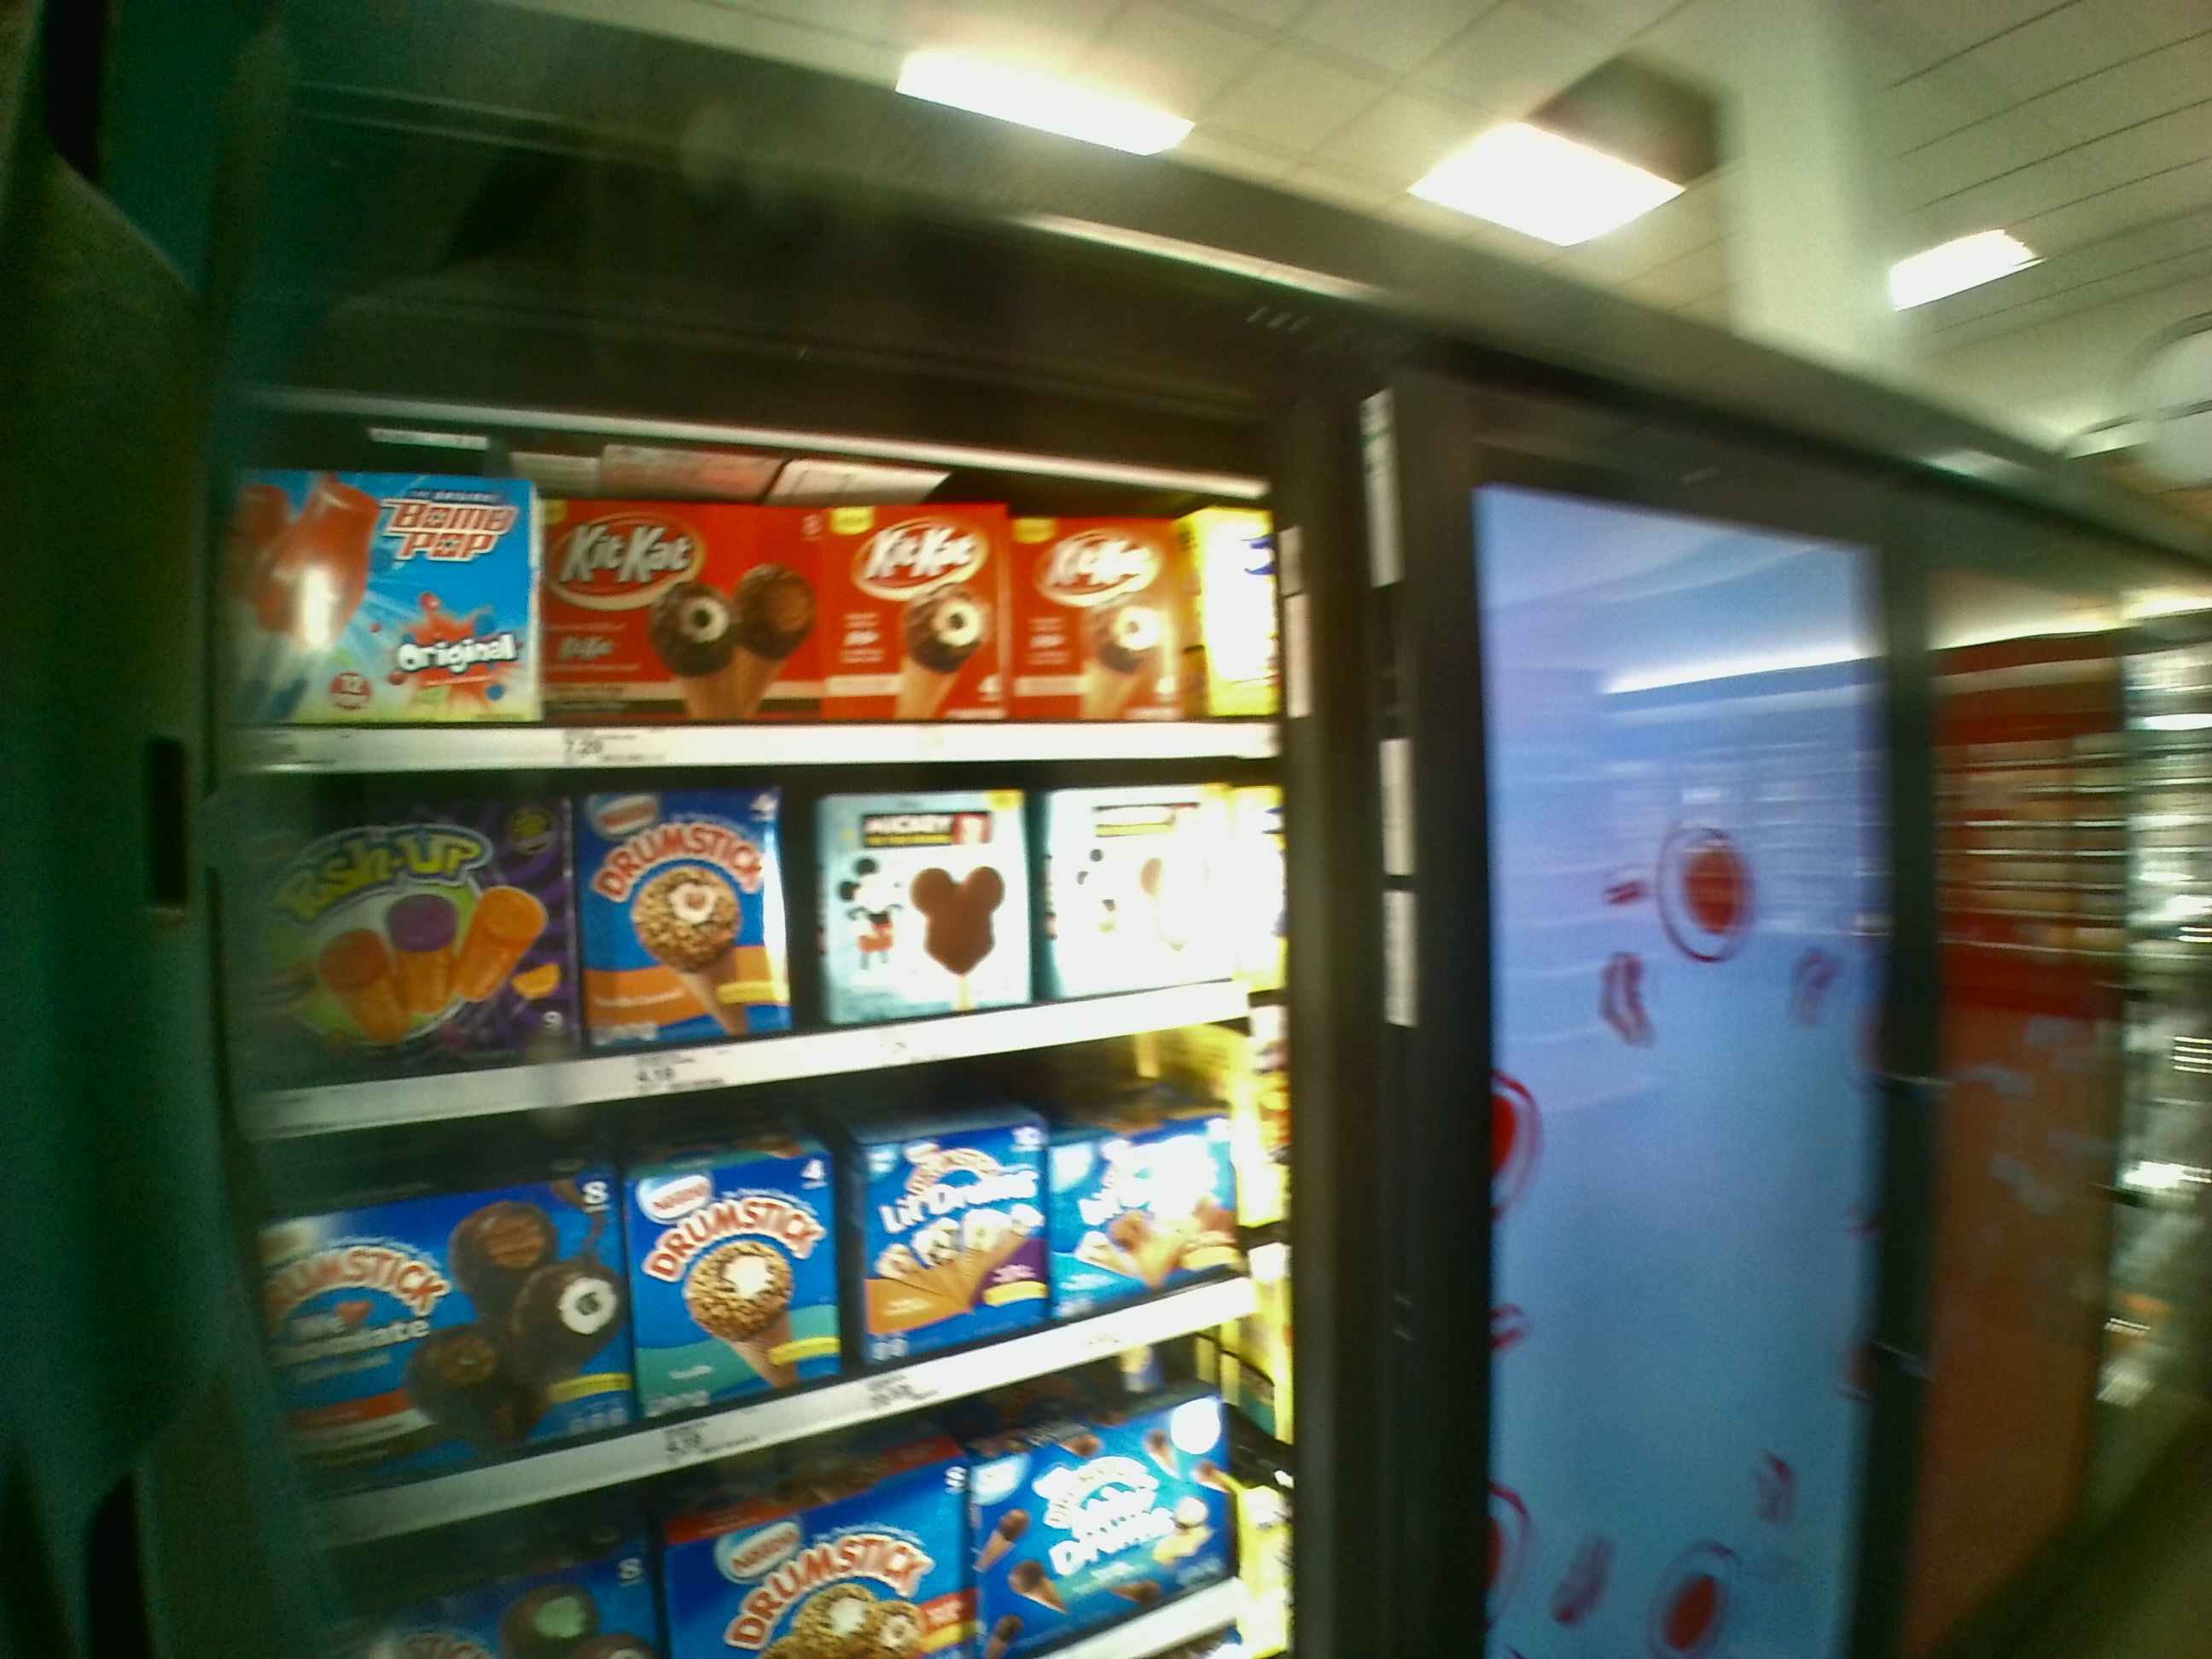shelf: (195, 429, 1287, 777), (272, 1103, 1289, 1436), (214, 784, 1284, 1087)
